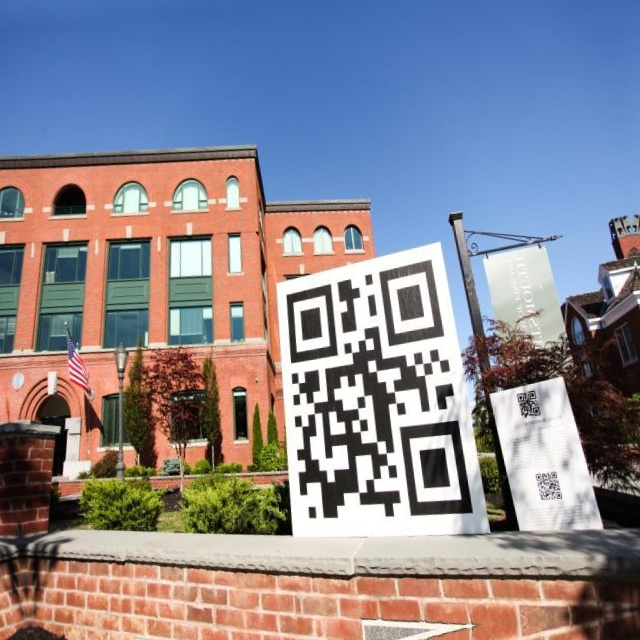qr-code: (277, 258, 473, 530), (536, 471, 562, 500), (516, 390, 541, 419)
